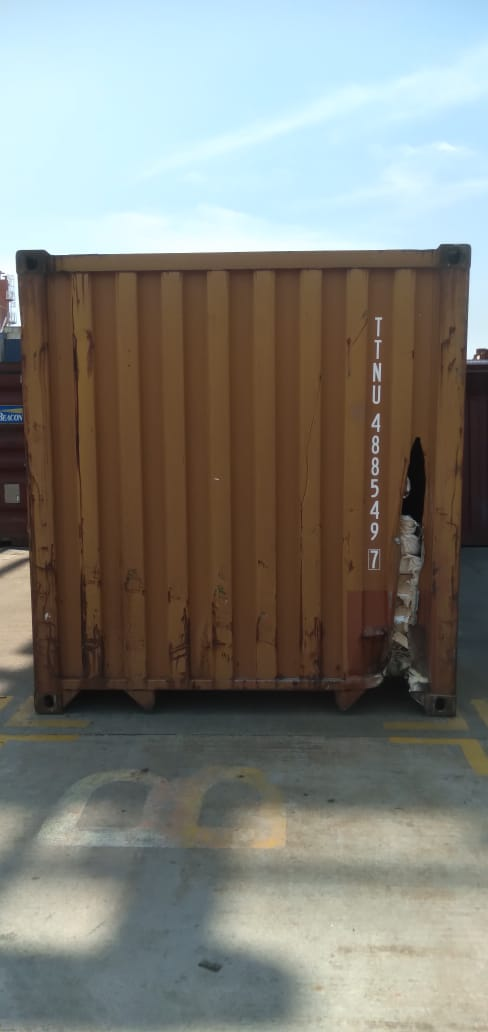cut: (363, 435, 441, 699)
